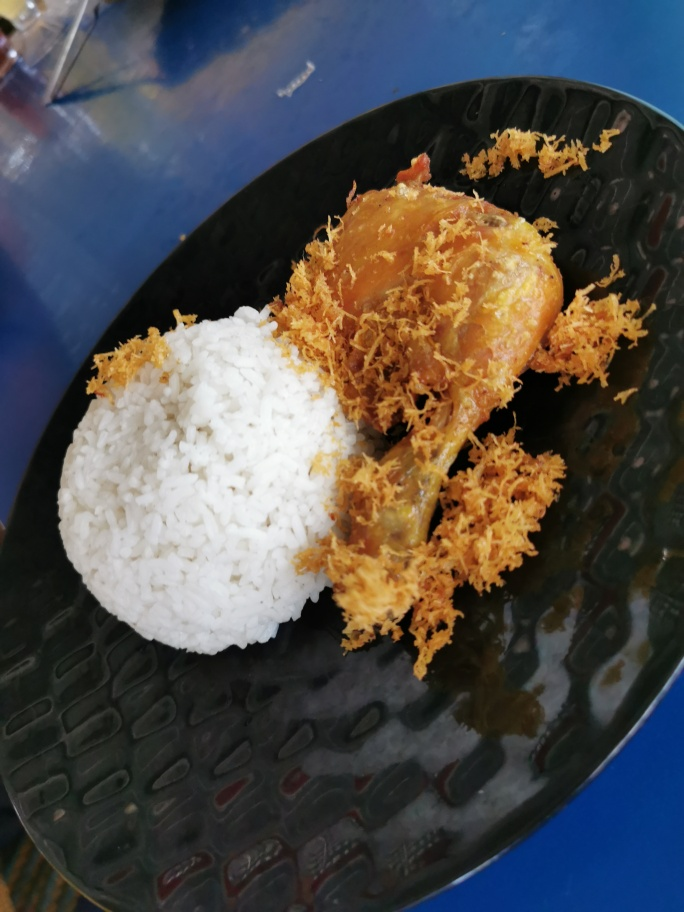ayam goreng: (288, 139, 578, 656)
nasi putih: (40, 276, 375, 665)
